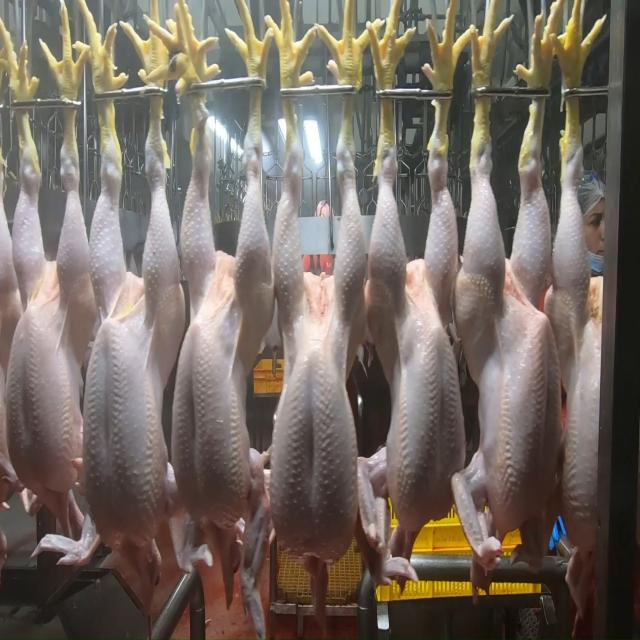chicken: (80, 103, 182, 559), (268, 104, 365, 571), (175, 99, 280, 528), (363, 144, 464, 526), (0, 108, 93, 500), (473, 156, 562, 538), (554, 120, 610, 552)
